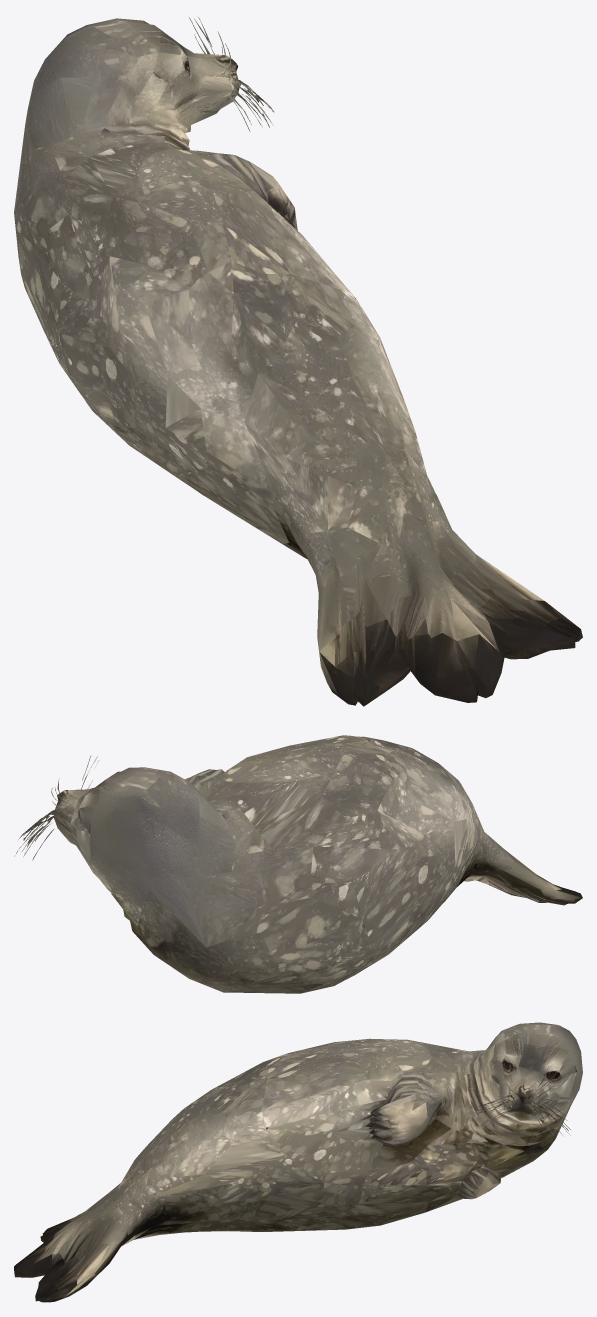
File: harborseal.glb
3 renders of one model, top to bottom at view 1: azimuth 30°, elevation 25°; view 2: azimuth 150°, elevation 25°; view 3: azimuth 270°, elevation 25°, orthographic. The views are drawn at different scales.
Visible parts, largest first — view 1: harborseal; view 2: harborseal; view 3: harborseal.
Part boxes in pixels (x1=…): harborseal: x1=14, y1=17, x2=582, y2=706; harborseal: x1=14, y1=735, x2=582, y2=993; harborseal: x1=14, y1=1022, x2=582, y2=1302.
Size of the model in its own units: 0.6391 by 0.7922 by 1.6.
Materials: 1 (1 with a texture image).
